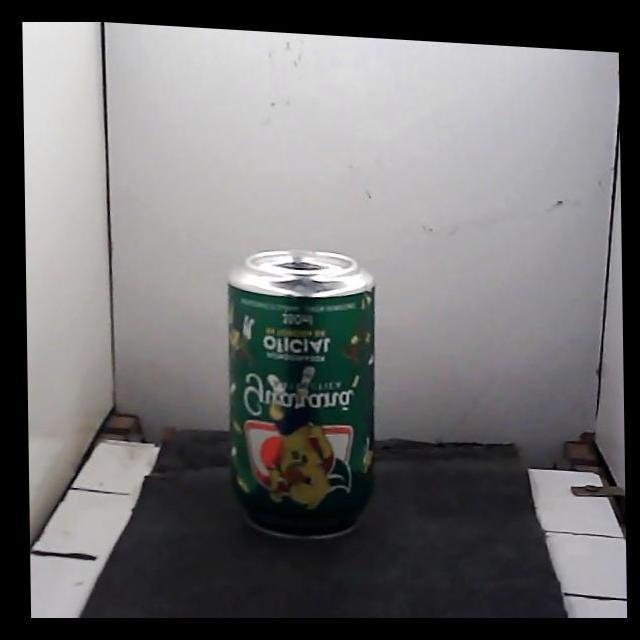metal: (227, 250, 377, 537)
